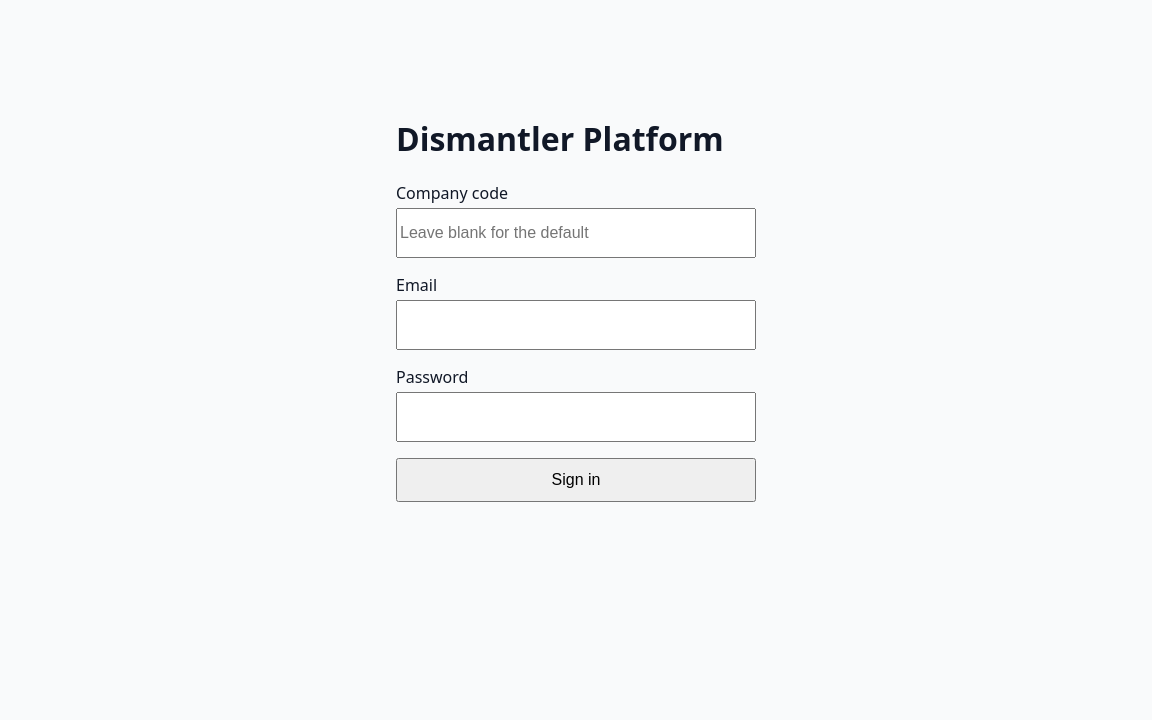
it: sign-in › sends the company code and remembers it on this device
In the field labelled "Company code": [576, 233] box [396,208,756,258], type "Acme"
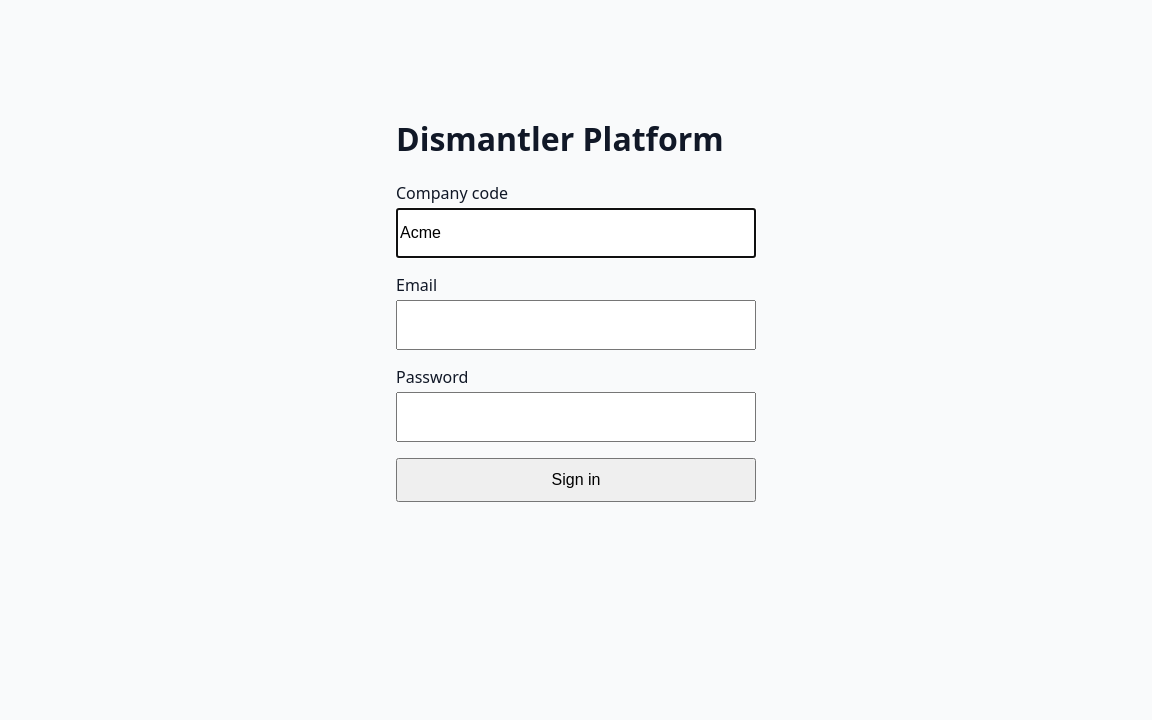
In the field labelled "Email": [576, 325] box [396,300,756,350], type "s@x.co"
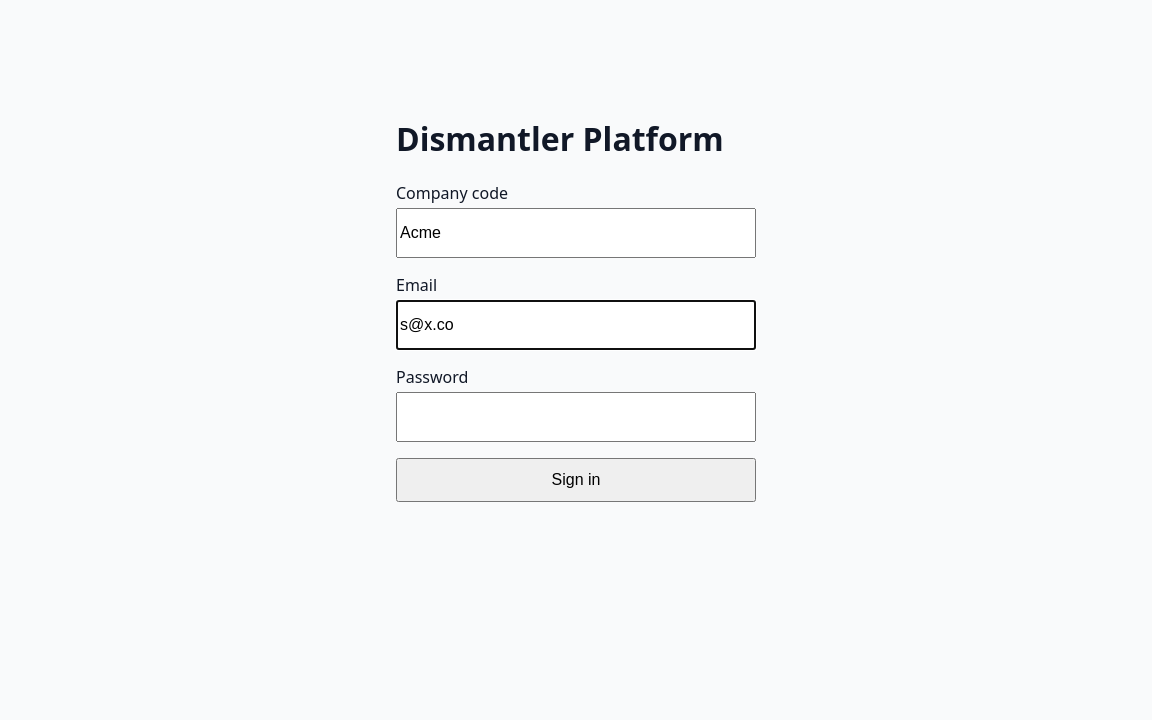
In the password field labelled "Password": [576, 417] box [396,392,756,442], type "pw-pw-pw-pw-pw"
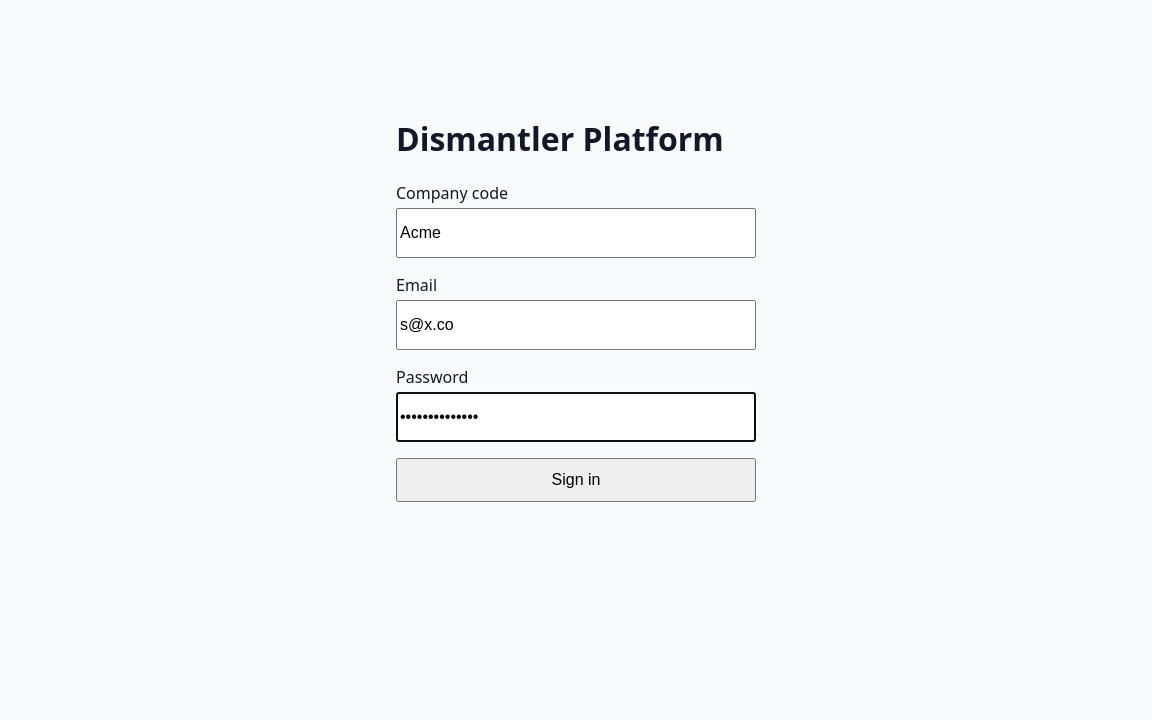
Click the button "Sign in": [576, 480] box [396,458,756,502]
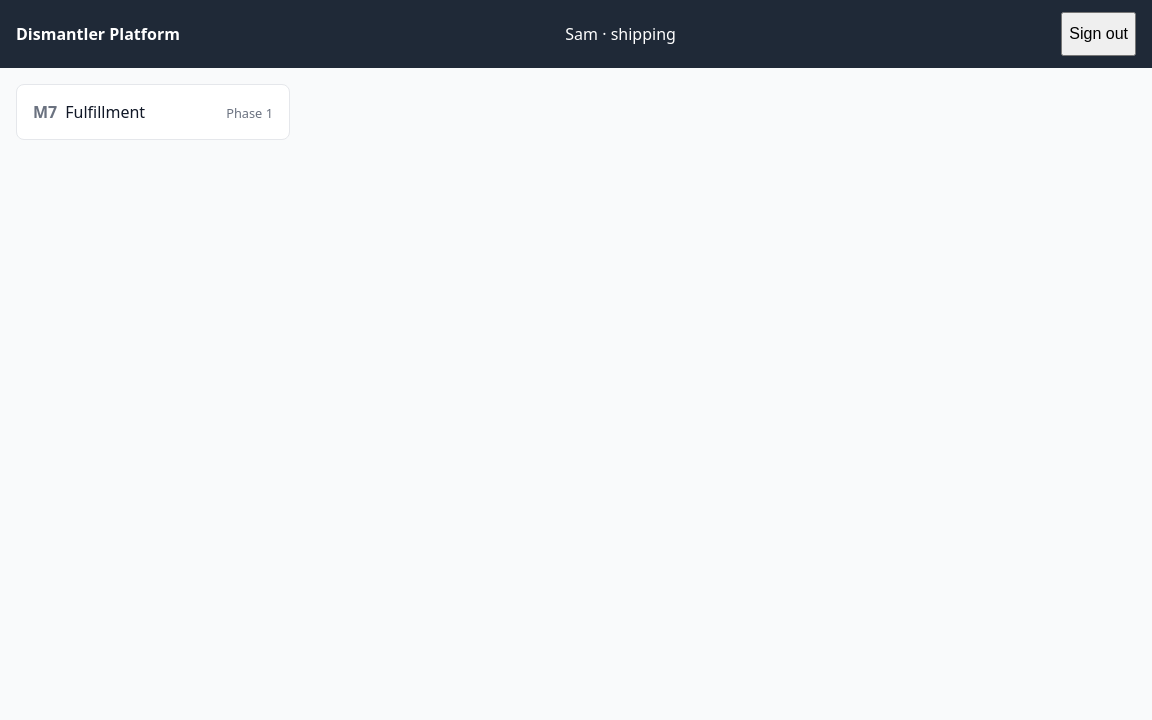
Expected: the navigation bar named "Modules" is shown, [16,84,290,140]
